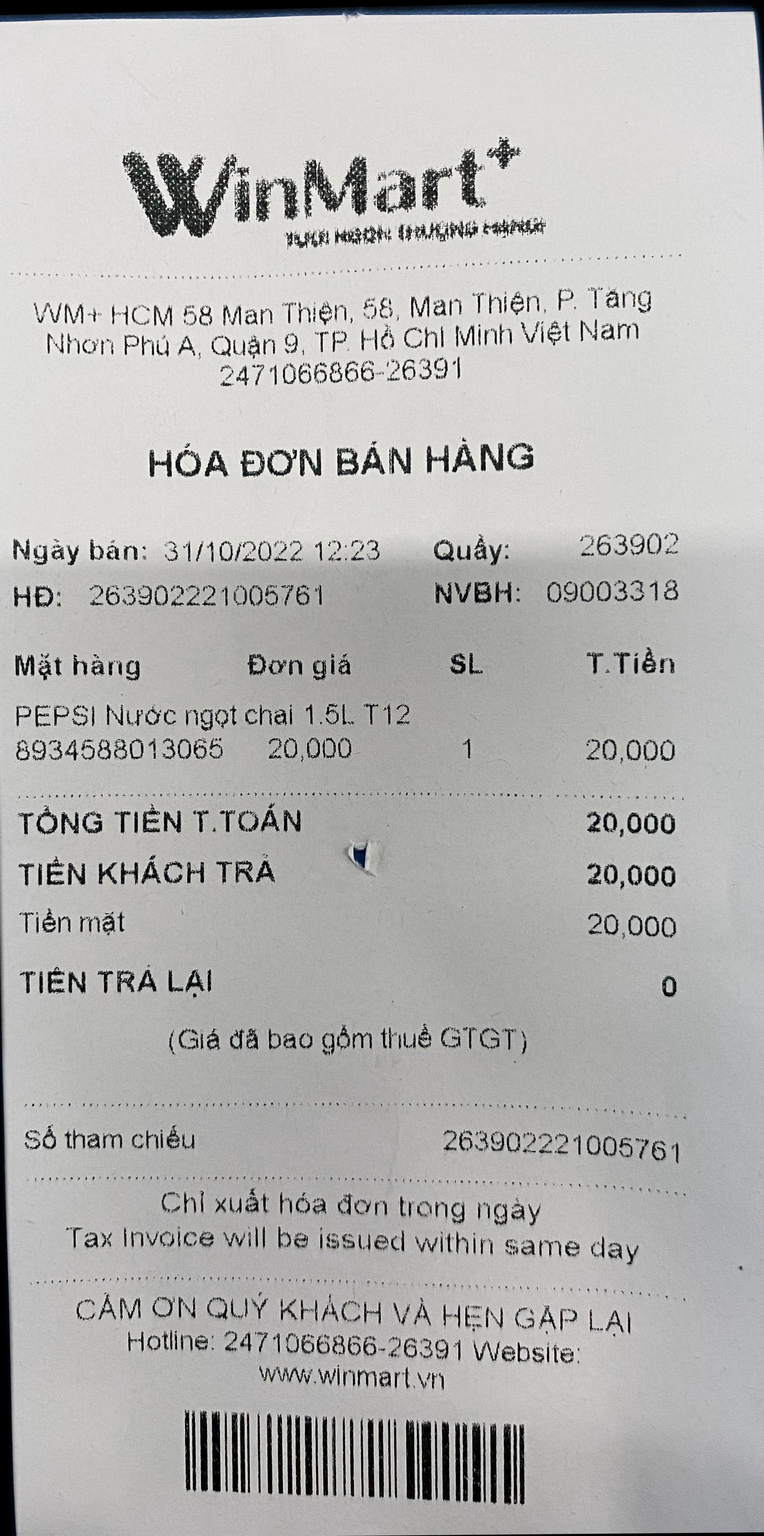Date: (157, 525, 307, 572)
Store_Name: (85, 117, 559, 243)
Total_Amount: (0, 786, 684, 855)
